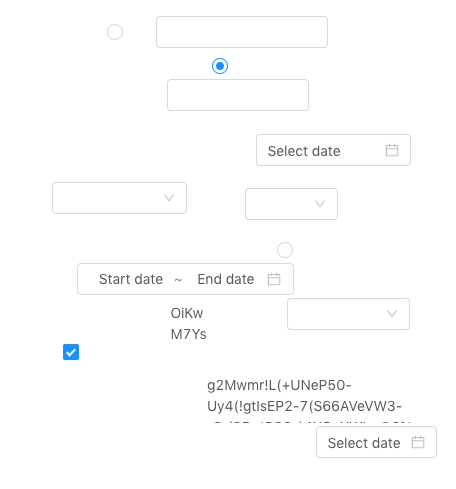Checkbox: (63, 341, 79, 362)
DatePicker: (256, 134, 411, 166), (316, 426, 437, 458)
Input: (156, 16, 328, 48), (167, 79, 309, 111)
Radio: (107, 21, 123, 41), (277, 239, 293, 259), (212, 55, 228, 75)
RangePicker: (77, 263, 294, 295)
Select: (52, 182, 187, 214), (287, 298, 410, 330), (245, 188, 338, 220)
Text: (207, 374, 431, 423), (171, 302, 212, 339)
